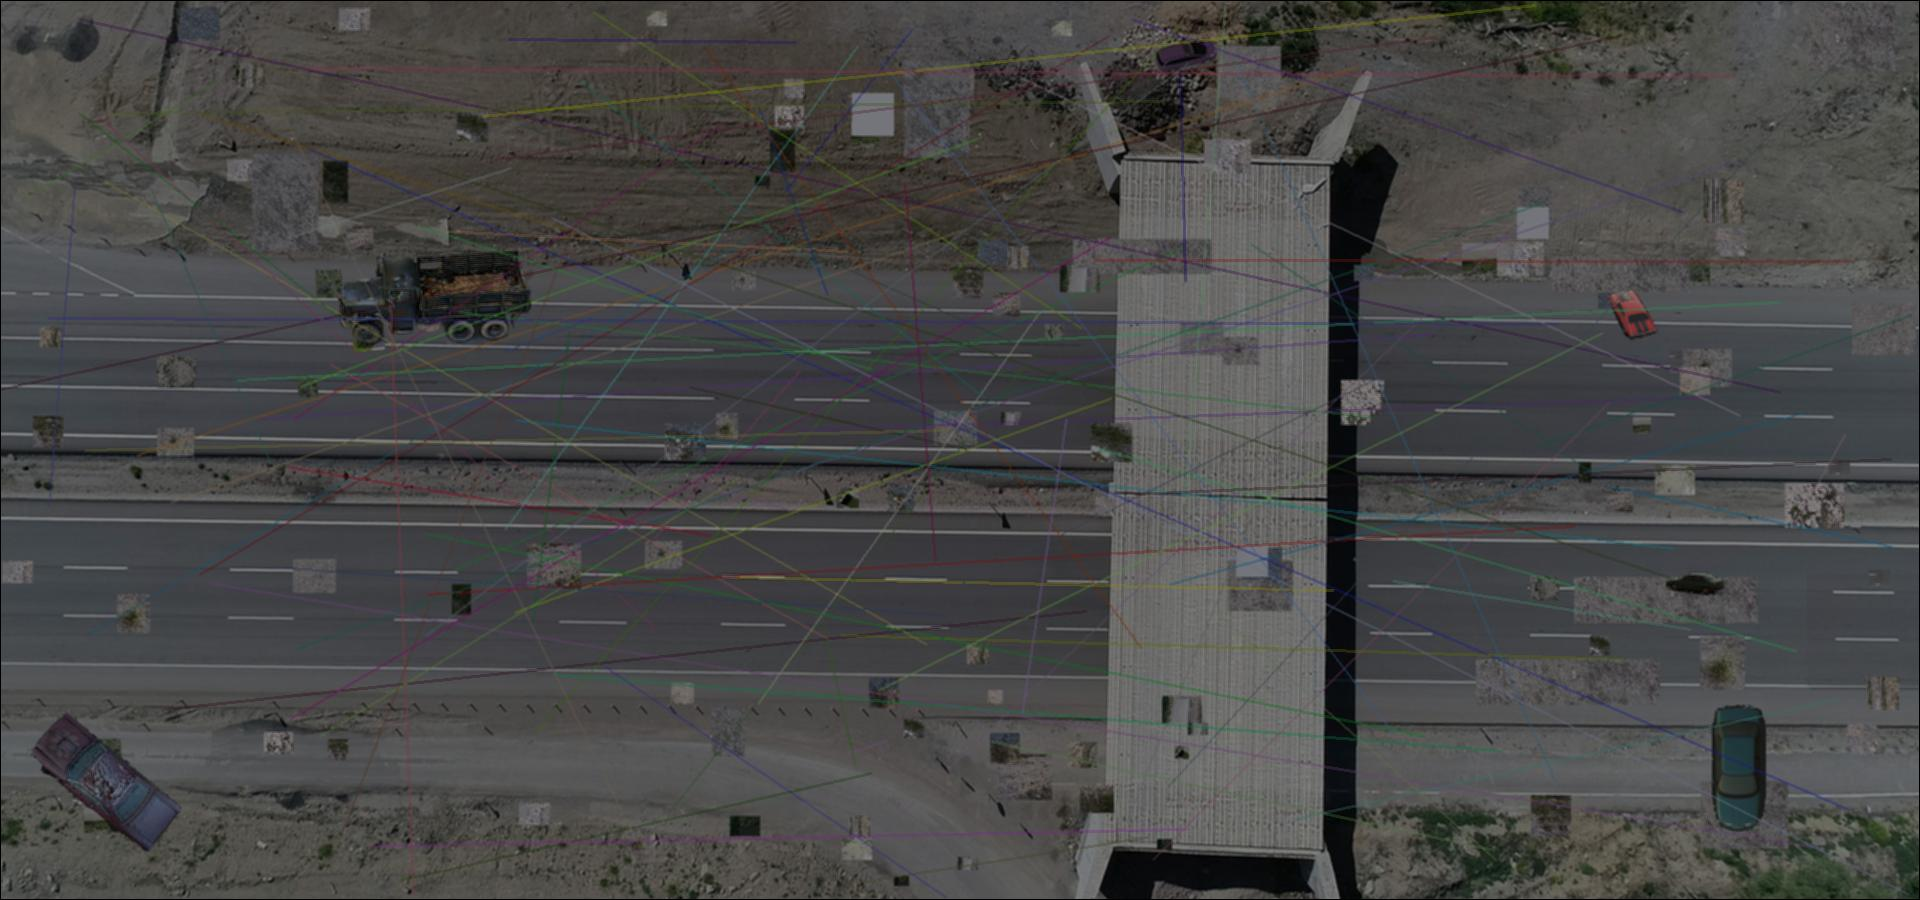arac: (24, 708, 182, 853), (338, 246, 533, 351), (1709, 703, 1771, 836), (1605, 288, 1658, 340), (1153, 39, 1220, 73), (1667, 571, 1725, 595)
